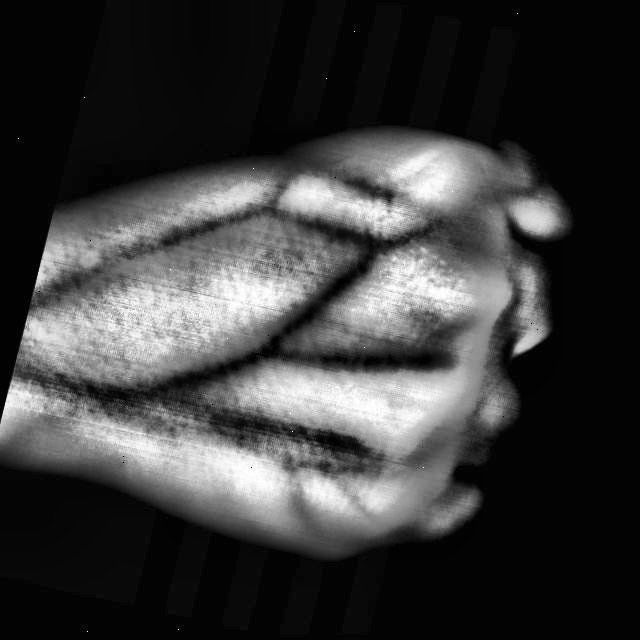Vein: (166, 262, 364, 404)
